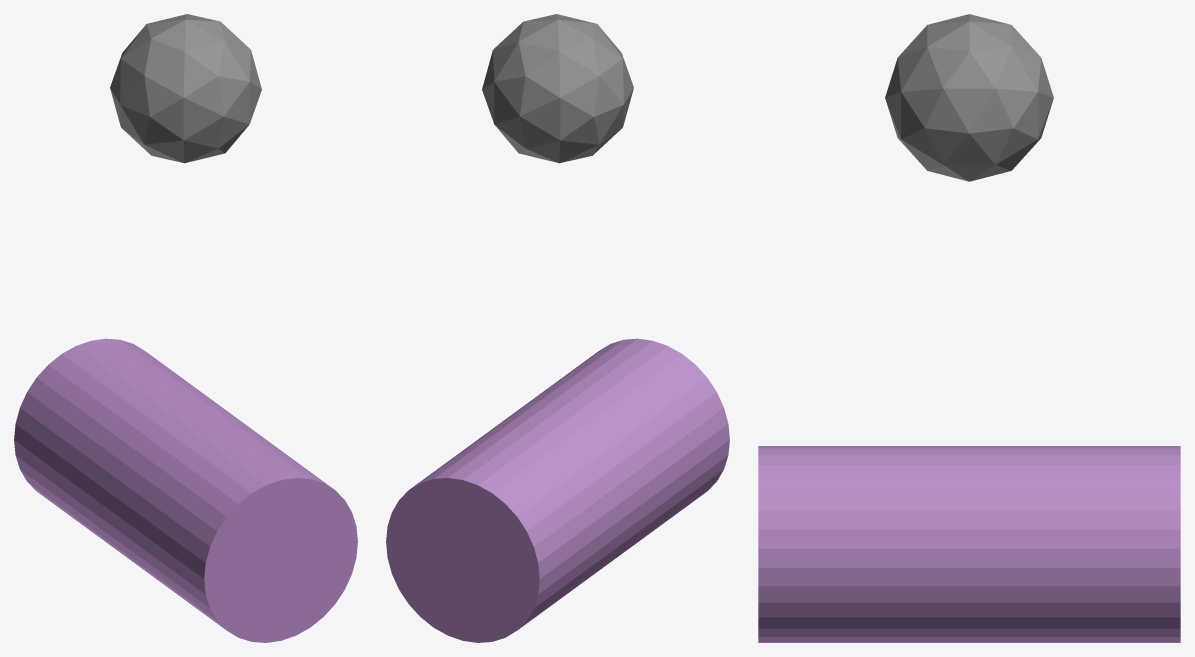
Rendered from extra_m.glb.
3 renders of one model, left to right at view 1: azimuth 30°, elevation 25°; view 2: azimuth 150°, elevation 25°; view 3: azimuth 270°, elevation 25°, orthographic. The views are drawn at different scales.
Parts seen in each view (by area): view 1: geometry_0; view 2: geometry_0; view 3: geometry_0.
Part boxes in pixels (x1,y1,x2,y2): geometry_0: [14, 14, 357, 642]; geometry_0: [386, 14, 729, 642]; geometry_0: [758, 14, 1180, 642].
Bounding box in the file's own units: 0.56 × 1.92 × 1.2.
